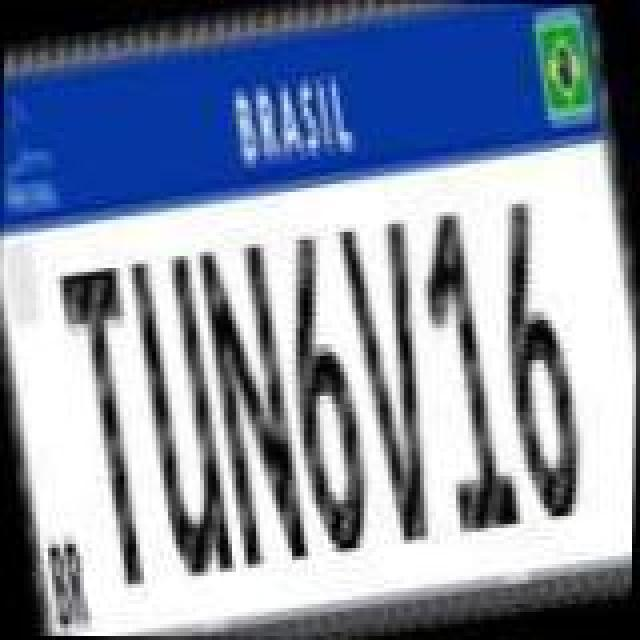1: (408, 200, 532, 540)
6: (472, 188, 604, 532), (264, 222, 384, 562)
N: (186, 224, 318, 572)
T: (52, 260, 172, 596)
U: (116, 244, 244, 592)
V: (332, 212, 460, 552)
